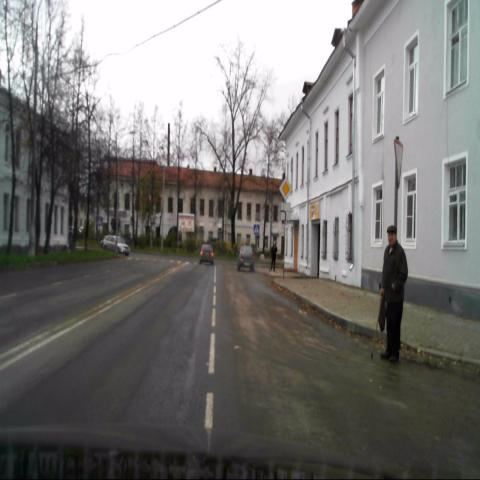2_1: (278, 177, 292, 202)
2_4: (394, 137, 404, 190)
